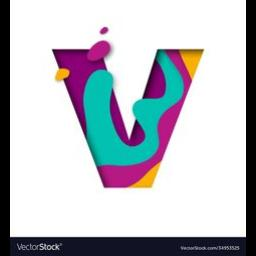v: (40, 34, 216, 196)
